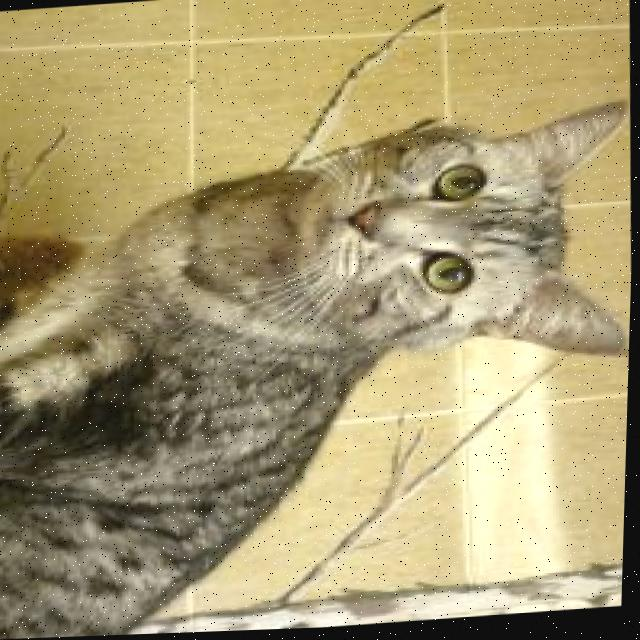Egyptian Mau: (0, 100, 637, 640)
